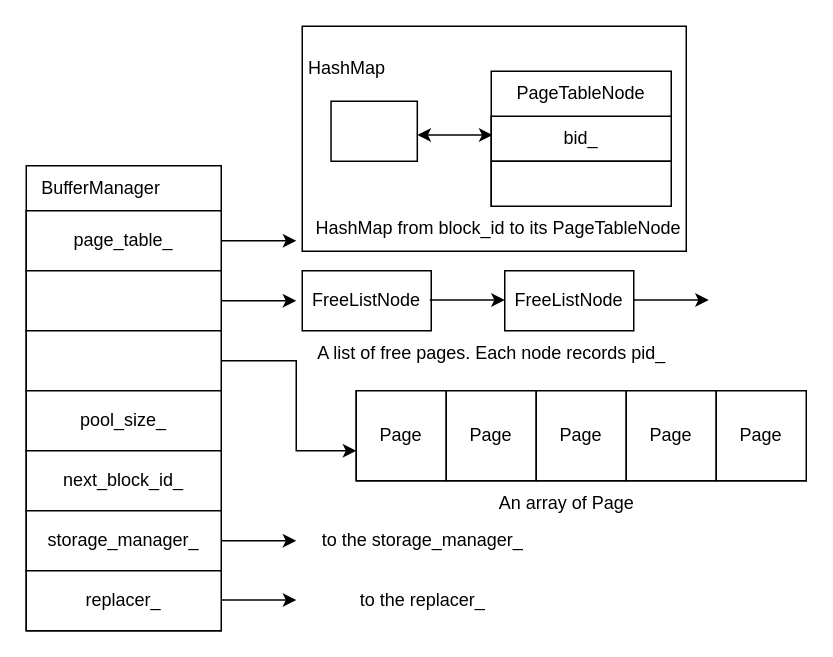
This 833x657 diagram has some shape labels left out. The box of each missing label's shape, as (x1, y1, x2, y2) in pixels:
block_id: (330, 100, 417, 161)
free_list_: (25, 269, 221, 331)
pages_: (25, 329, 221, 391)
pid_: (490, 160, 671, 206)
